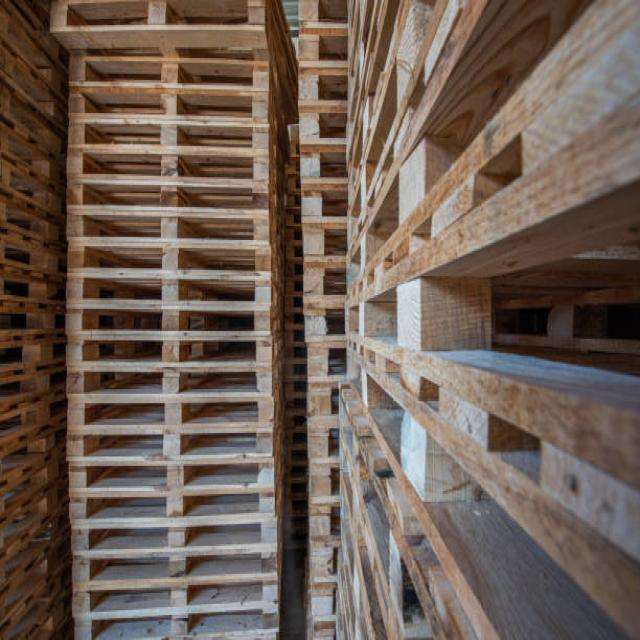Wooden-Pallets: (51, 39, 272, 101), (48, 0, 267, 50), (58, 295, 275, 342), (61, 82, 271, 128), (64, 147, 276, 192), (59, 118, 274, 161), (60, 202, 269, 246), (66, 578, 282, 616), (62, 460, 276, 498), (62, 248, 274, 285), (61, 425, 276, 461), (63, 545, 283, 580), (60, 364, 274, 399), (66, 489, 274, 522)
